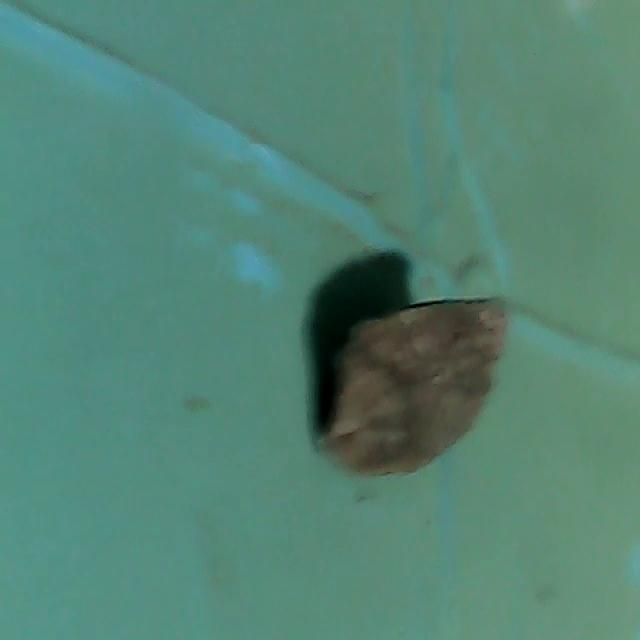rock: (316, 295, 512, 482)
